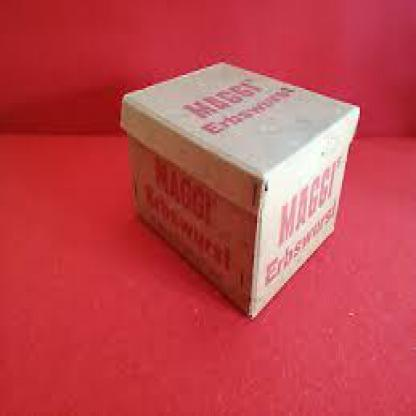box: (119, 60, 359, 320)
